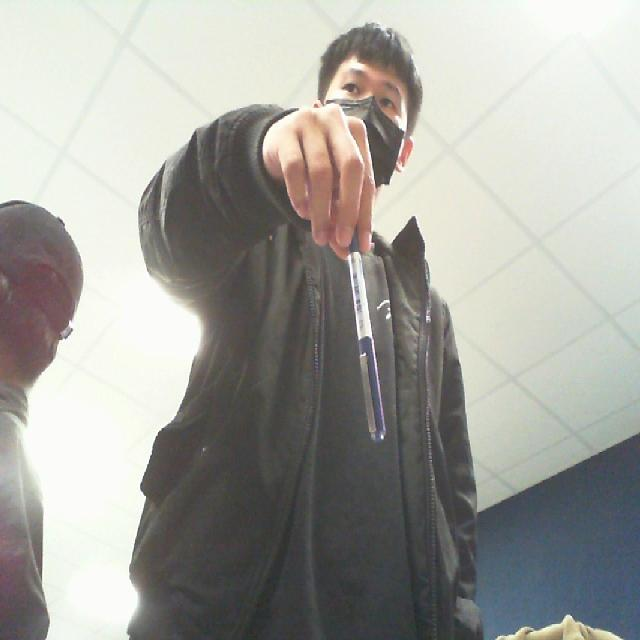Pen: (333, 224, 392, 446)
